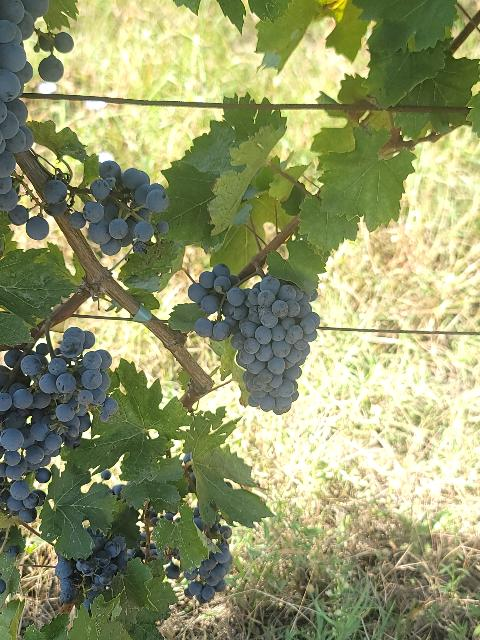grapes: (0, 326, 119, 521), (189, 264, 320, 415), (82, 161, 170, 255)
